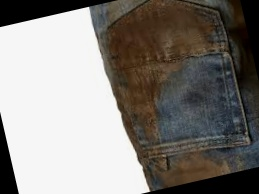earth: (110, 3, 212, 74), (126, 67, 161, 128), (162, 157, 219, 187), (149, 64, 169, 86)
